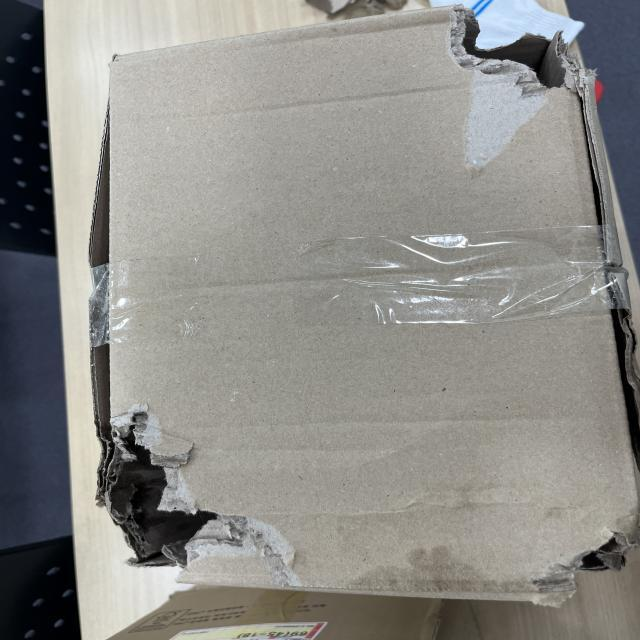hole: (95, 410, 244, 567), (528, 508, 640, 618), (450, 30, 576, 104)
